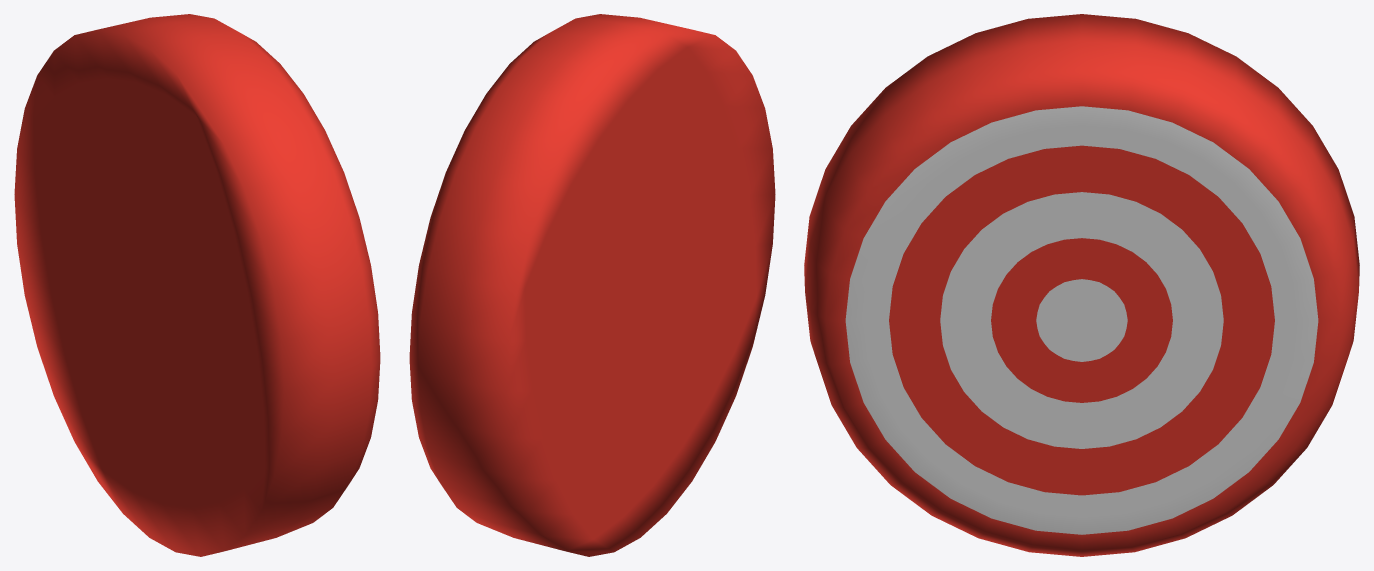
File: Alvo.fbx
3 views of the same model, side by side, from view 1: azimuth 30°, elevation 25°; view 2: azimuth 150°, elevation 25°; view 3: azimuth 270°, elevation 25° (orthographic). The views are drawn at different scales.
Visible parts, largest first — view 1: Circle; view 2: Circle; view 3: Circle.
Part boxes in pixels (bbox=[...]): Circle: bbox=[14, 14, 380, 556]; Circle: bbox=[409, 14, 775, 556]; Circle: bbox=[804, 14, 1359, 556].
Bounding box in the file's own units: 7.93 × 33.99 × 33.99.
